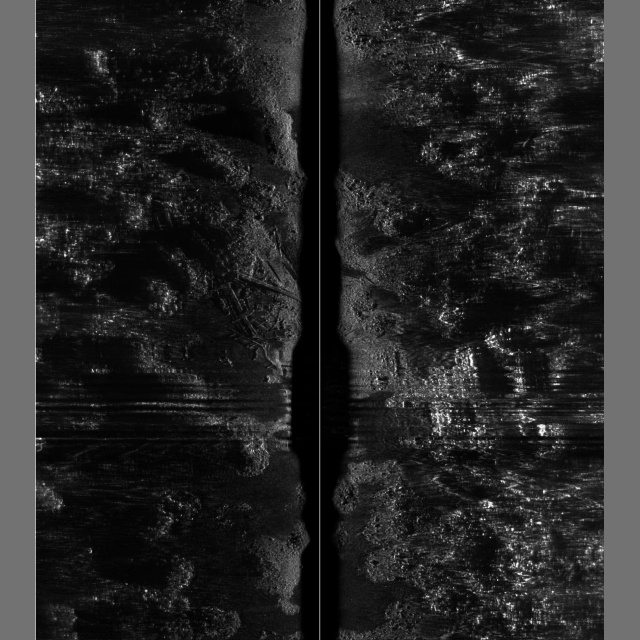Shipwreck: (211, 227, 360, 369)
